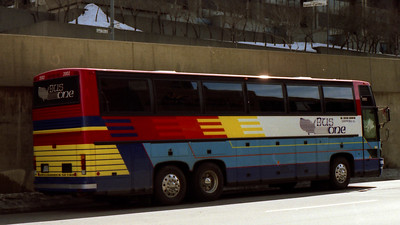bus: (31, 67, 385, 206)
